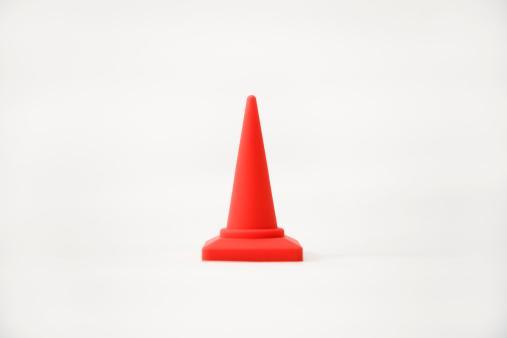Cone: (202, 95, 305, 262)
